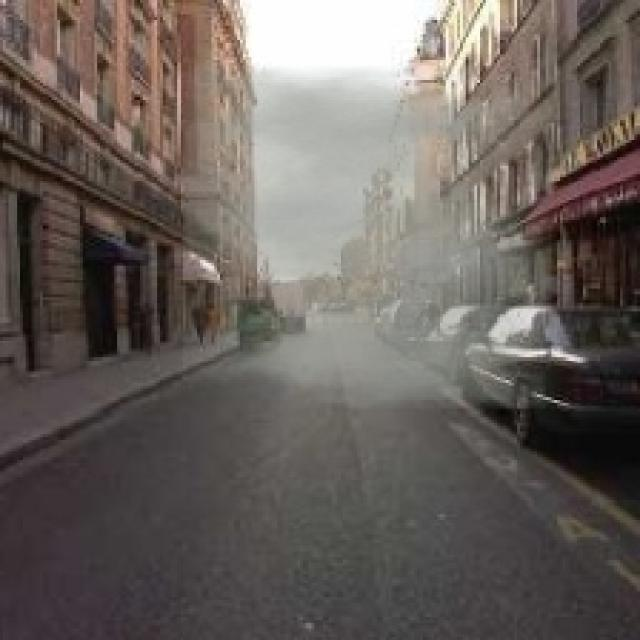smoke: (183, 66, 551, 408)
